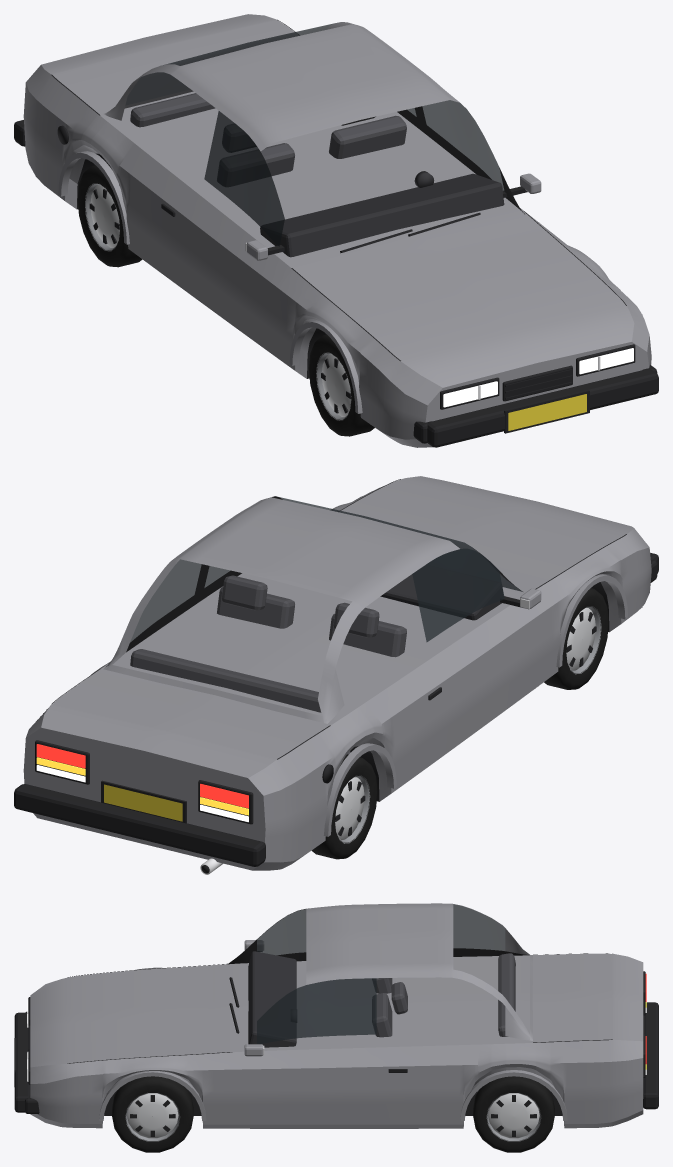
Rendered from tr_sedan.glb.
3 renders of one model, top to bottom at view 1: azimuth 30°, elevation 25°; view 2: azimuth 150°, elevation 25°; view 3: azimuth 270°, elevation 25°, orthographic. The views are drawn at different scales.
Parts seen in each view (by area): view 1: hood, tub, cabin_roof, door_R, nose, cabin_glass, dash, deck_lid, fender_R, quarter_R, bumper_front, tail (+15 smaller); view 2: cabin_roof, tub, tail, door_R, hood, deck_lid, cabin_glass, bumper_rear, quarter_R, fender_R, dash, rear_back (+16 smaller); view 3: door_L, tub, hood, cabin_roof, cabin_glass, quarter_L, deck_lid, fender_L, tail, wheel_RL, wheel_FL, nose (+9 smaller).
Part boxes in pixels (bbox=[...]): hood: bbox=[292, 211, 626, 361]; tub: bbox=[100, 91, 523, 267]; cabin_roof: bbox=[104, 22, 459, 151]; door_R: bbox=[117, 144, 291, 356]; nose: bbox=[383, 306, 651, 447]; cabin_glass: bbox=[125, 23, 504, 246]; dash: bbox=[260, 173, 504, 257]; deck_lid: bbox=[52, 20, 299, 115]; fender_R: bbox=[274, 268, 400, 441]; quarter_R: bbox=[34, 75, 134, 209]; bumper_front: bbox=[427, 369, 658, 447]; tail: bbox=[23, 14, 276, 175]; cabin_roof: bbox=[103, 497, 459, 723]; tub: bbox=[100, 573, 520, 725]; tail: bbox=[23, 704, 294, 870]; door_R: bbox=[367, 599, 541, 801]; hood: bbox=[340, 479, 625, 595]; deck_lid: bbox=[52, 669, 329, 759]; cabin_glass: bbox=[130, 496, 522, 642]; bumper_rear: bbox=[14, 784, 265, 866]; quarter_R: bbox=[277, 702, 383, 869]; fender_R: bbox=[533, 535, 643, 684]; dash: bbox=[380, 564, 503, 620]; rear_back: bbox=[130, 649, 321, 712]; door_L: bbox=[232, 1044, 477, 1128]; tub: bbox=[232, 955, 532, 1052]; hood: bbox=[67, 964, 232, 1063]; cabin_roof: bbox=[306, 903, 532, 1040]; cabin_glass: bbox=[257, 904, 505, 1044]; quarter_L: bbox=[478, 1040, 612, 1128]; deck_lid: bbox=[533, 953, 612, 1042]; fender_L: bbox=[67, 1052, 232, 1128]; tail: bbox=[612, 954, 643, 1125]; wheel_RL: bbox=[473, 1076, 554, 1152]; wheel_FL: bbox=[112, 1076, 193, 1152]; nose: bbox=[30, 978, 66, 1127].
Bounding box in the file's own units: 1.88 × 1.39 × 4.73.
